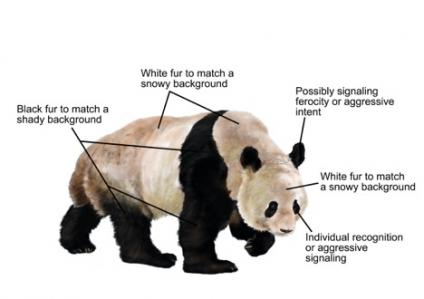panda: (37, 99, 339, 274)
